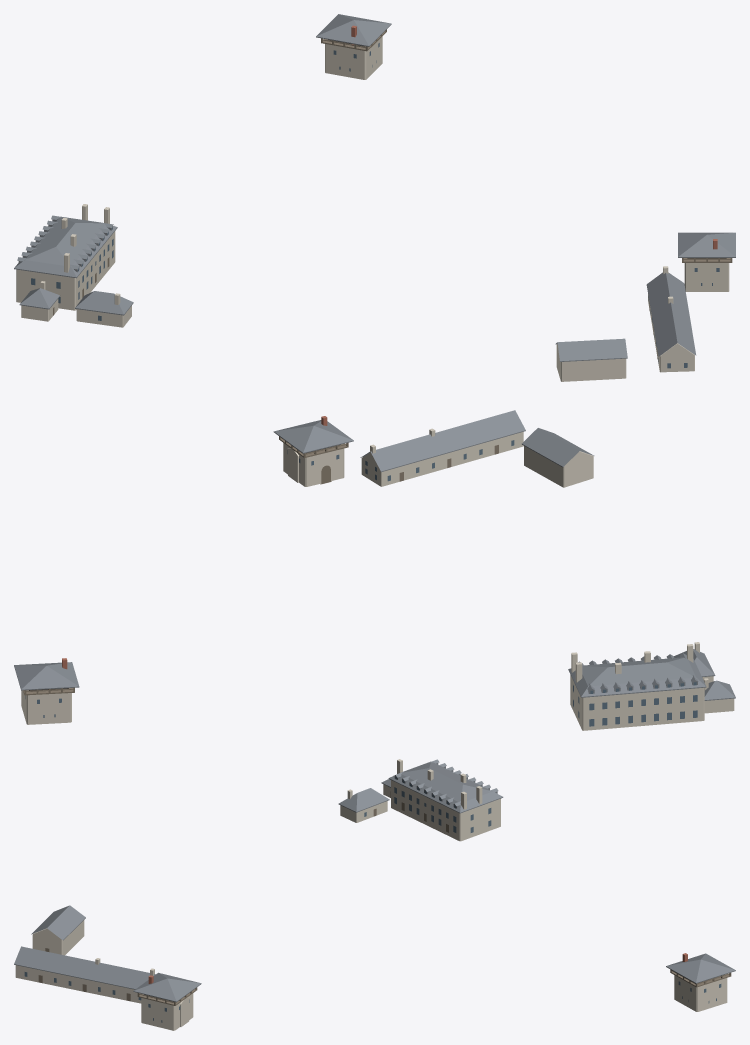
Rendered from niagara-old-fort-niagara.glb.
3 renders of one model, top to bottom at view 1: azimuth 30°, elevation 25°; view 2: azimuth 150°, elevation 25°; view 3: azimuth 270°, elevation 25°, orthographic. The views are drawn at different scales.
Visible parts, largest first — view 1: Old Fort Niagara; view 2: Old Fort Niagara; view 3: Old Fort Niagara.
Part boxes in pixels (x1,y1,x2,y2): Old Fort Niagara: (14, 14, 735, 381); Old Fort Niagara: (14, 410, 735, 730); Old Fort Niagara: (14, 759, 735, 1030).
Size of the model in its own units: 161 by 14 by 199.
